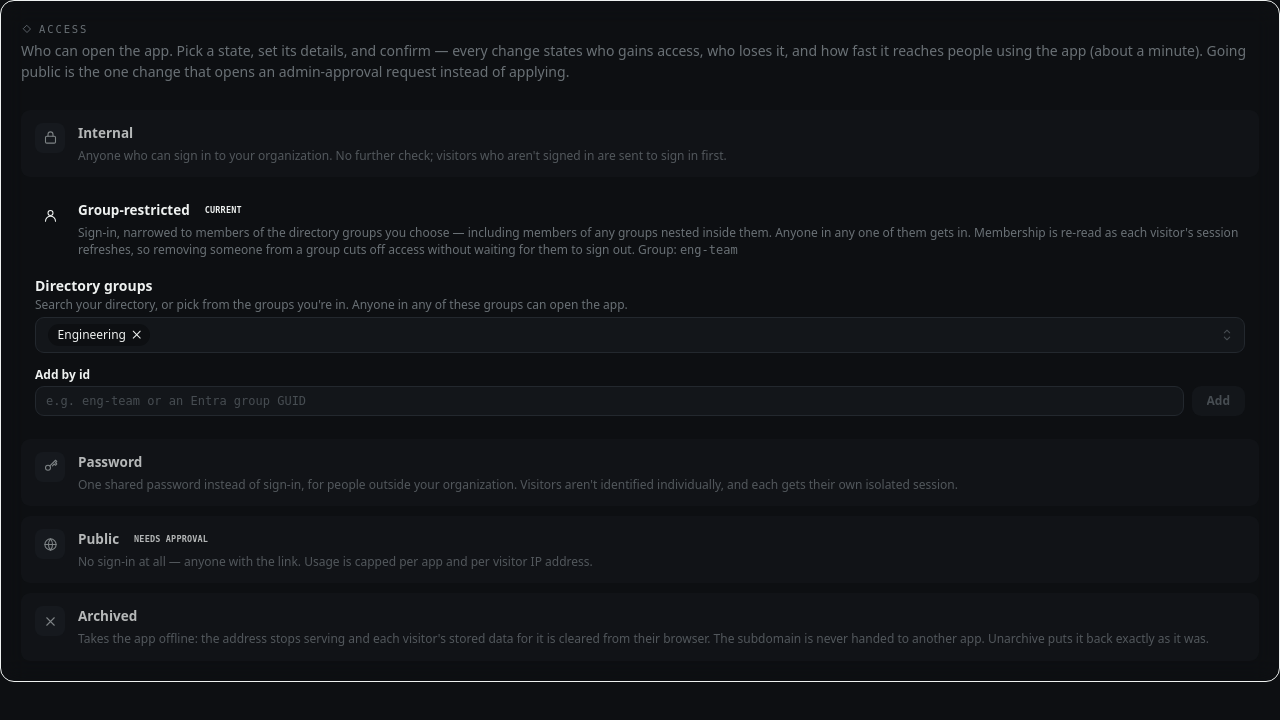
AccessTab selector › states the widening when making a group app internal
Click the button "Internal": (106, 133) [35,123,727,164]
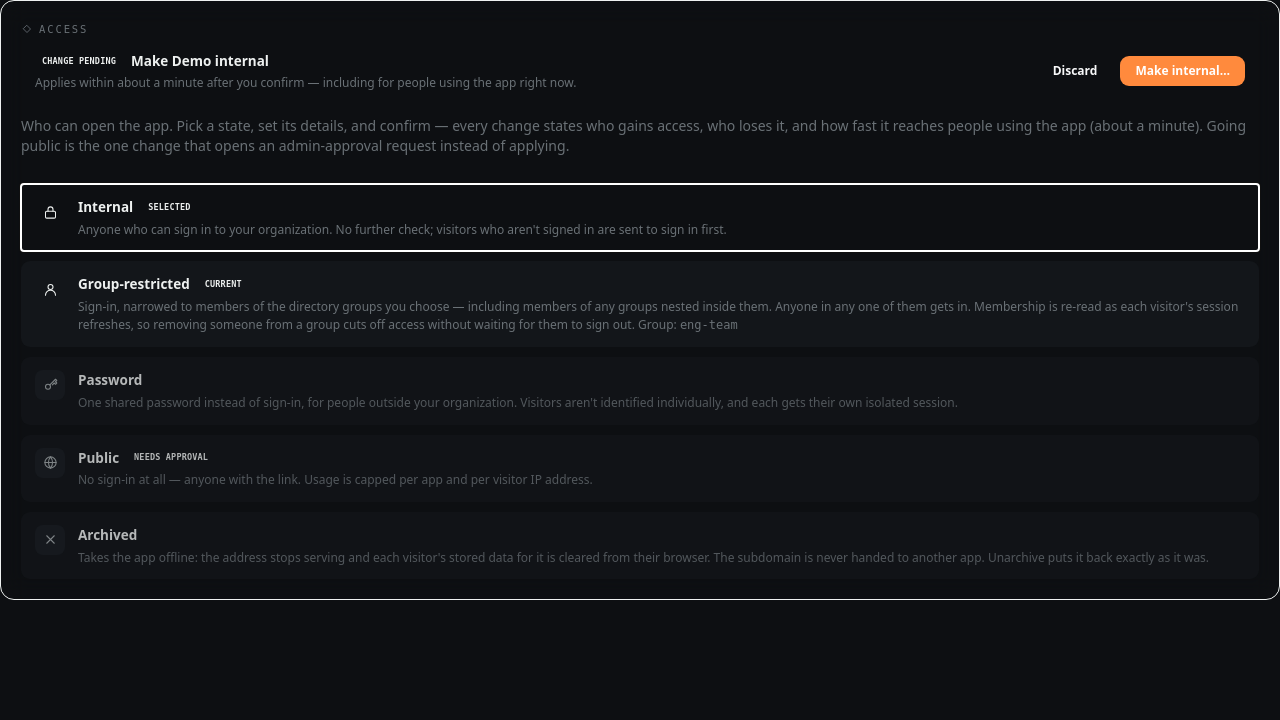
Click the button "Make internal…": (1183, 71) [1120,56,1245,86]
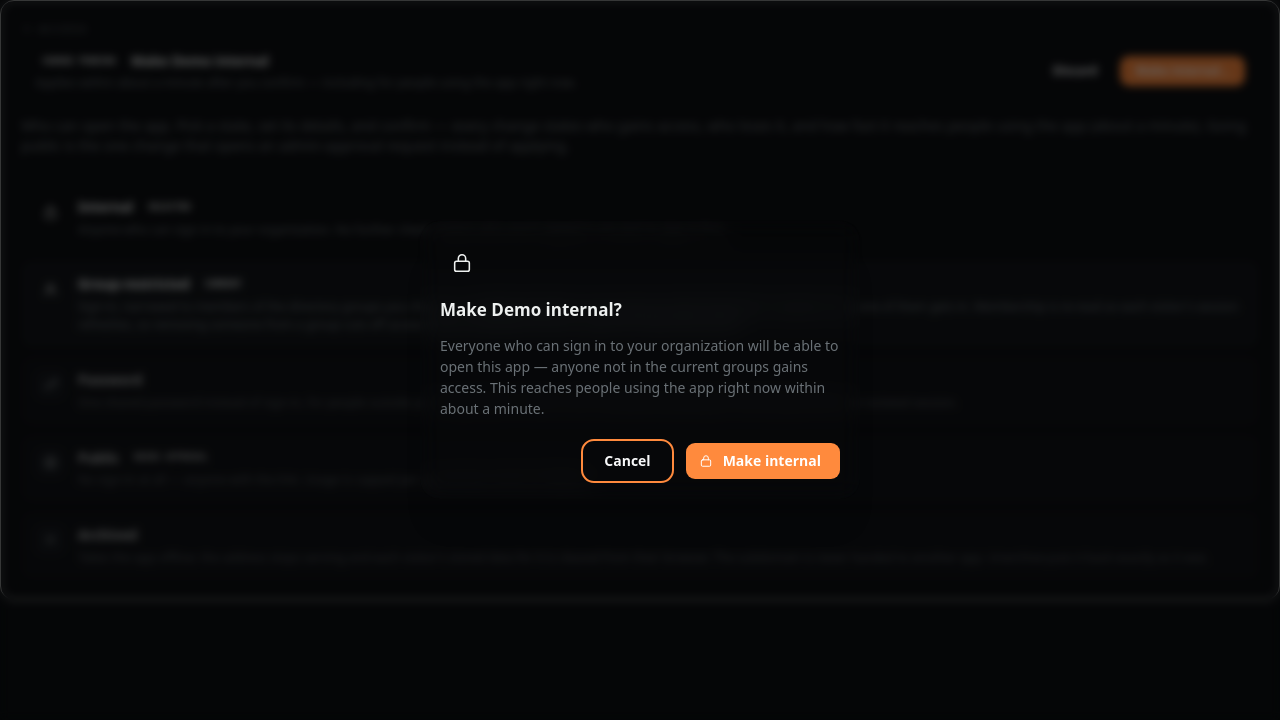
Check: the text "anyone not in the current groups gains access" is shown, box [440,336,838,418]
